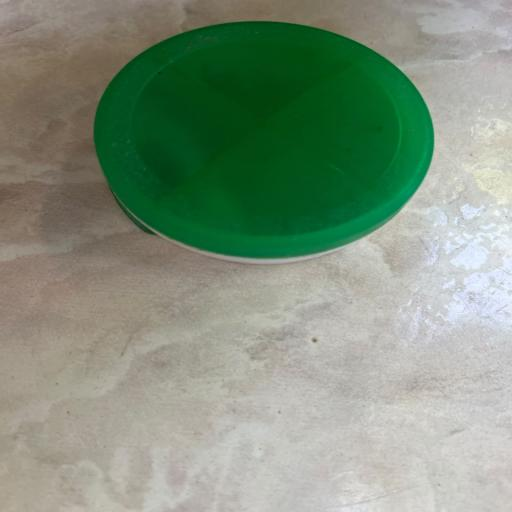HDPE: (45, 11, 455, 287)
